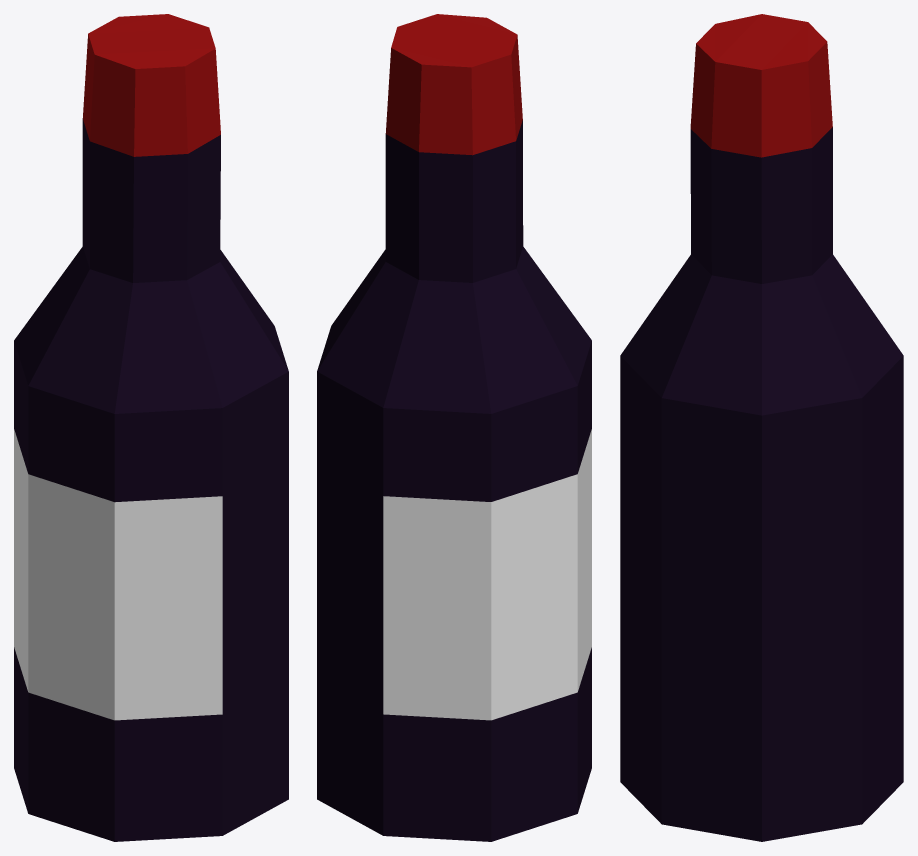
File: Wine.fbx
The picture shows the model from 3 angles, left to right: view 1: azimuth 30°, elevation 25°; view 2: azimuth 150°, elevation 25°; view 3: azimuth 270°, elevation 25°; orthographic projection.
Visible parts, largest first — view 1: Wine; view 2: Wine; view 3: Wine.
Boxes of the visible parts, x1,y1,x2,y2 form: Wine: [14, 14, 288, 841]; Wine: [317, 14, 591, 841]; Wine: [620, 14, 903, 841].
Bounding box in the file's own units: 200 × 576 × 200.
